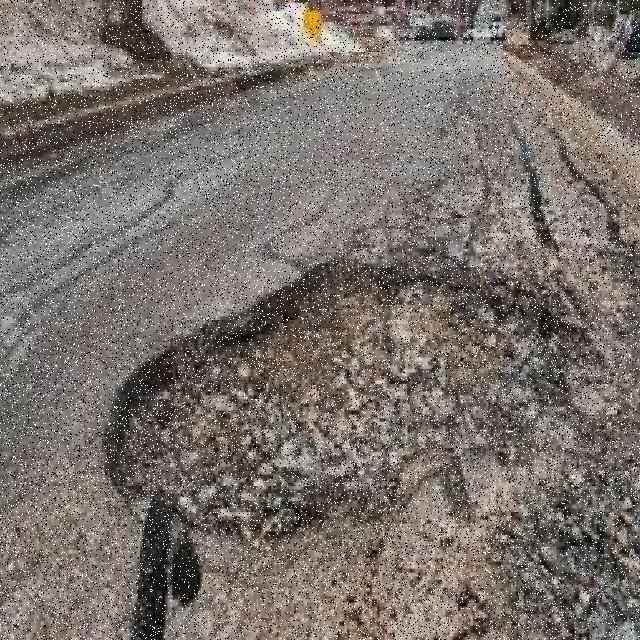pothole: (115, 260, 549, 565)
